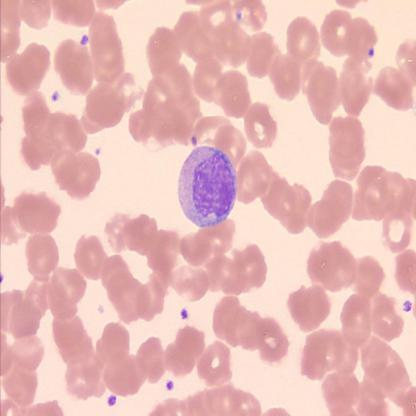Myelocyte: (178, 144, 235, 226)
